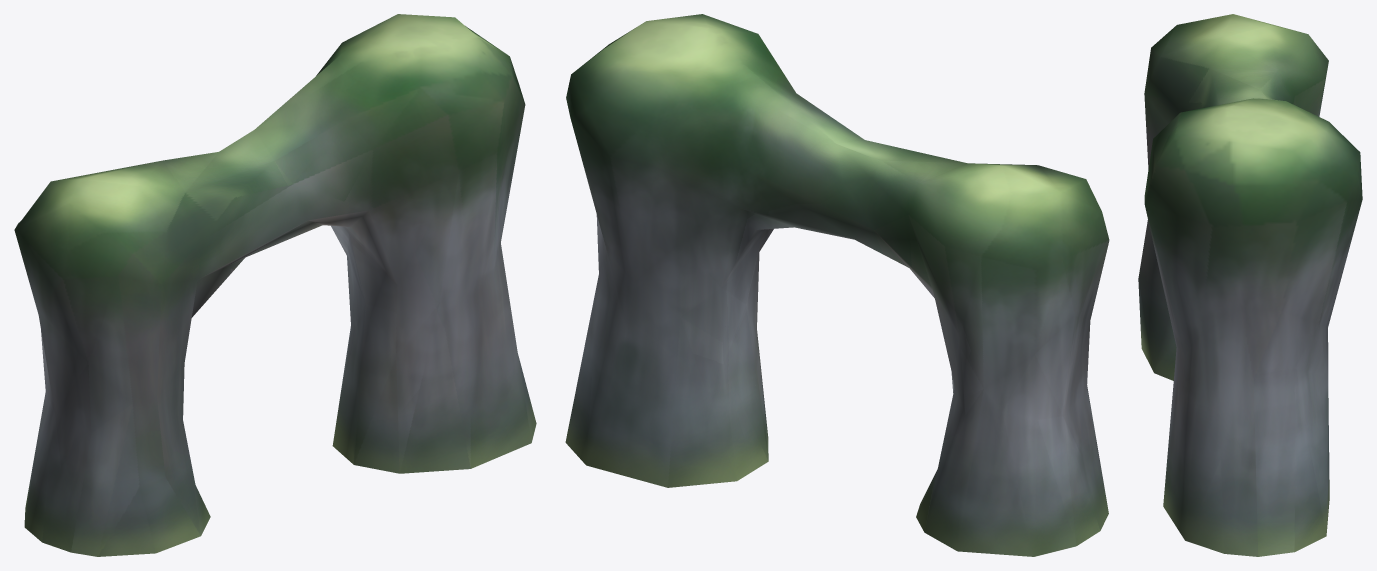
Rendered from Cliff3.fbx.
3 views of the same model, side by side, from view 1: azimuth 30°, elevation 25°; view 2: azimuth 150°, elevation 25°; view 3: azimuth 270°, elevation 25° (orthographic). The views are drawn at different scales.
Visible parts, largest first — view 1: Plane; view 2: Plane; view 3: Plane.
Boxes of the visible parts, bbox=[...] form: Plane: bbox=[14, 14, 536, 556]; Plane: bbox=[565, 14, 1109, 556]; Plane: bbox=[1138, 14, 1362, 556].
Bounding box in the file's own units: 8.2 × 6.4 × 3.28.
